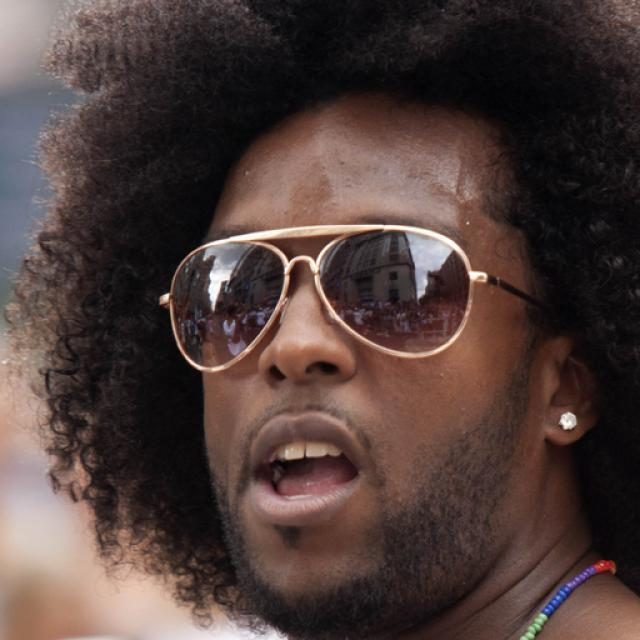surprise: (202, 108, 546, 618)
